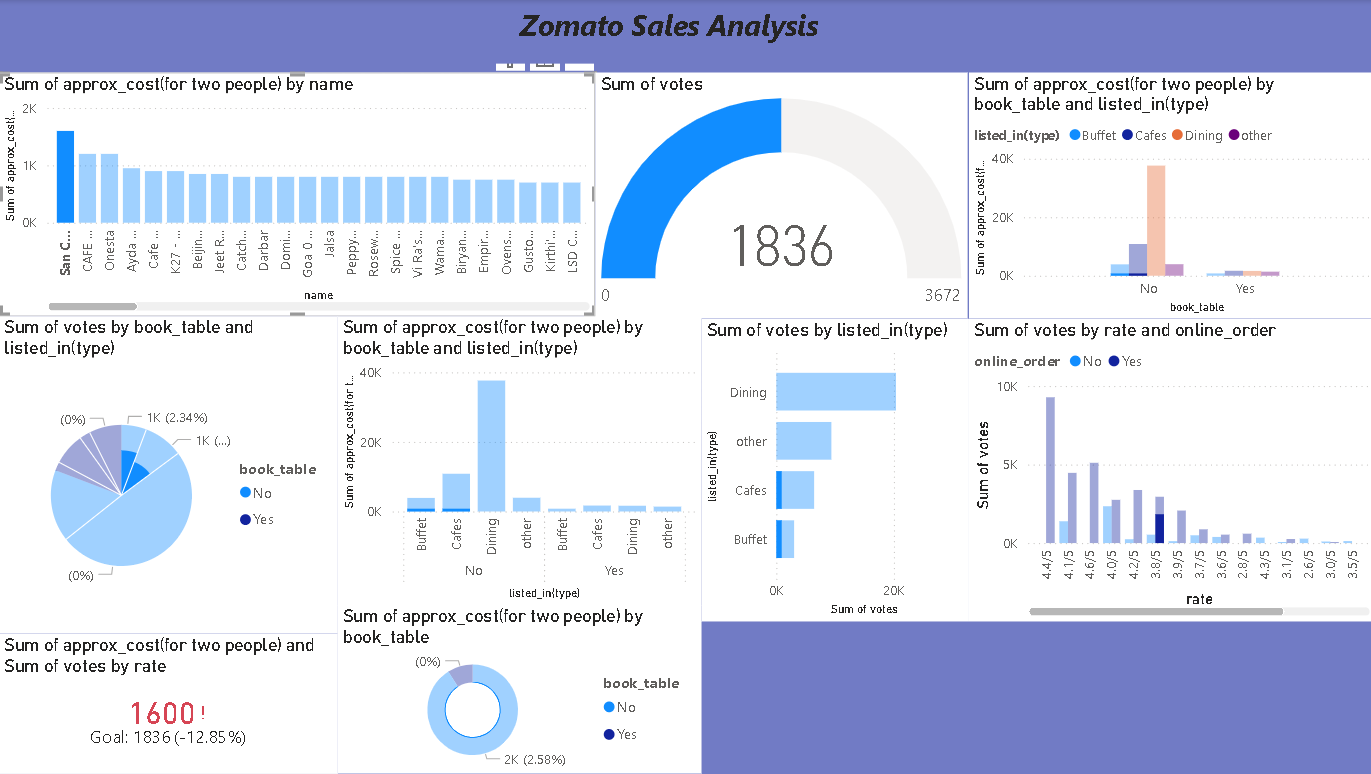

The page's visual inventory and layout, read from the dashboard file:
{"tool":"powerbi","page":{"name":"Page 1","canvas":[1280,720],"ordinal":0},"visuals":[{"type":"columnChart","fields":{"Category":["Zomato-data-.name"],"Y":["Sum(Zomato-data-.approx_cost(for two people))"]},"box":[0,67.4,554.7,226.7],"z":0},{"type":"pieChart","fields":{"Category":["Zomato-data-.book_table"],"Series":["Zomato-data-.listed_in(type)"],"Y":["Sum(Zomato-data-.votes)"]},"box":[0,294.2,315.1,295.3],"z":1000},{"type":"textbox","box":[1047.7,414,227.9,14],"z":2000},{"type":"textbox","box":[0,0,1280.2,59.3],"z":3000},{"type":"gauge","fields":{"Y":["Sum(Zomato-data-.votes)"]},"box":[554.7,67.4,346.5,229.1],"z":4000},{"type":"donutChart","fields":{"Y":["Sum(Zomato-data-.approx_cost(for two people))"],"Category":["Zomato-data-.book_table"]},"box":[315.1,562.8,338.4,157],"z":5000},{"type":"columnChart","fields":{"Category":["Zomato-data-.book_table","Zomato-data-.listed_in(type)"],"Y":["Sum(Zomato-data-.approx_cost(for two people))"]},"box":[315.1,294.2,338.4,268.6],"z":6000},{"type":"barChart","fields":{"Category":["Zomato-data-.listed_in(type)"],"Y":["Sum(Zomato-data-.votes)"]},"box":[653.5,296.5,248.8,281.4],"z":7000},{"type":"lineClusteredColumnComboChart","fields":{"Category":["Zomato-data-.rate"],"Series":["Zomato-data-.online_order"],"Y":["Sum(Zomato-data-.votes)"]},"box":[902.3,296.5,377.9,281.4],"z":8000},{"type":"clusteredColumnChart","fields":{"Y":["Sum(Zomato-data-.approx_cost(for two people))"],"Category":["Zomato-data-.book_table"],"Series":["Zomato-data-.listed_in(type)"]},"box":[902.3,67.4,377.9,229.1],"z":9000},{"type":"kpi","fields":{"TrendLine":["Zomato-data-.rate"],"Indicator":["Sum(Zomato-data-.approx_cost(for two people))"],"Goal":["Sum(Zomato-data-.votes)"]},"box":[0,589.5,315.1,130.2],"z":10000}]}

Visuals, with their boxes in screenshot pixels (x1, y1, x2, y2), scaled from the page's 1280x720 canvas onto the 1371x774 screenshot:
columnChart - Zomato-data-.name x Sum(Zomato-data-.approx_cost(for two people)): l=0, t=72, r=594, b=316
pieChart - Zomato-data-.book_table x Zomato-data-.listed_in(type): l=0, t=316, r=338, b=634
textbox: l=1122, t=445, r=1366, b=460
textbox: l=0, t=0, r=1370, b=64
gauge - Sum(Zomato-data-.votes): l=594, t=72, r=965, b=319
donutChart - Sum(Zomato-data-.approx_cost(for two people)) x Zomato-data-.book_table: l=338, t=605, r=700, b=773
columnChart - Zomato-data-.book_table x Zomato-data-.listed_in(type): l=338, t=316, r=700, b=605
barChart - Zomato-data-.listed_in(type) x Sum(Zomato-data-.votes): l=700, t=319, r=966, b=621
lineClusteredColumnComboChart - Zomato-data-.rate x Zomato-data-.online_order: l=966, t=319, r=1370, b=621
clusteredColumnChart - Sum(Zomato-data-.approx_cost(for two people)) x Zomato-data-.book_table: l=966, t=72, r=1370, b=319
kpi - Zomato-data-.rate x Sum(Zomato-data-.approx_cost(for two people)): l=0, t=634, r=338, b=773
